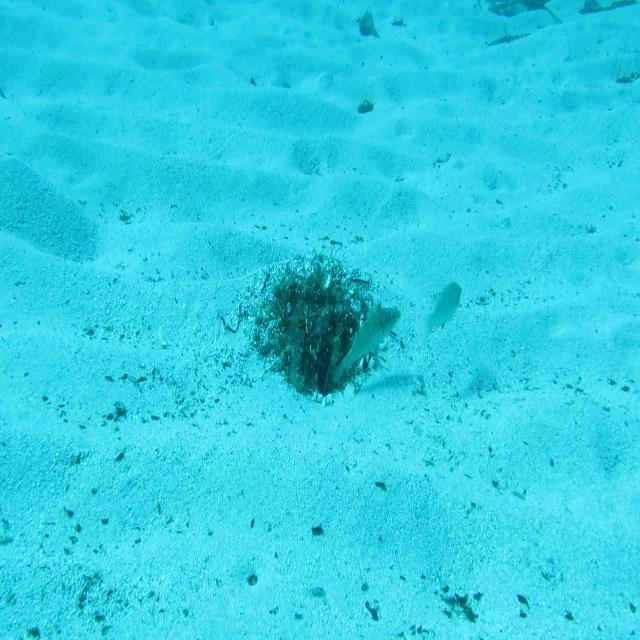MAF: (327, 295, 403, 392)
female: (414, 280, 465, 344)
nest: (247, 240, 390, 403)
